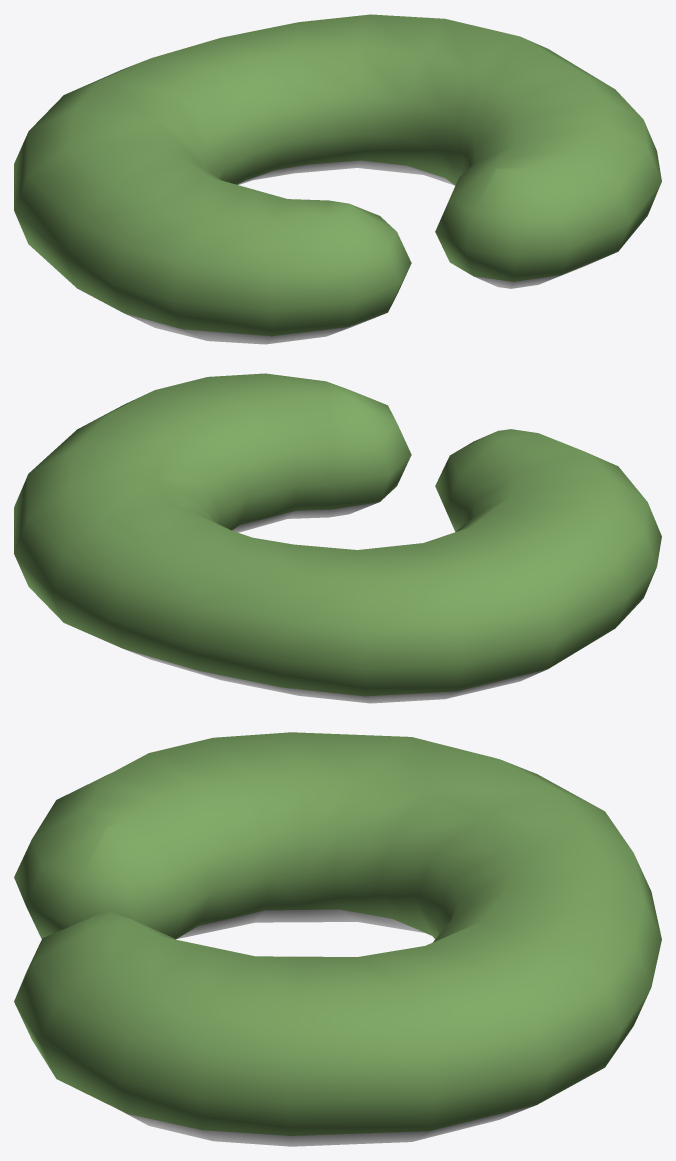
The model's file is Boppy_01.fbx.
3 views of the same model, one above another, from view 1: azimuth 30°, elevation 25°; view 2: azimuth 150°, elevation 25°; view 3: azimuth 270°, elevation 25° (orthographic). The views are drawn at different scales.
Parts seen in each view (by area): view 1: Boppy_01; view 2: Boppy_01; view 3: Boppy_01.
Part boxes in pixels (x1,y1,x2,y2): Boppy_01: (14, 14, 661, 344); Boppy_01: (14, 373, 661, 703); Boppy_01: (14, 732, 661, 1146).
Size of the model in its own units: 0.5223 by 0.1078 by 0.4381.
